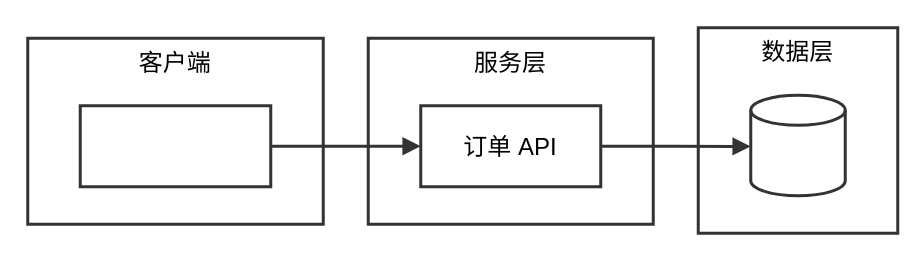
Image size: 924x260. Some labels were removed from this diagram. The centre of each missing label's shape, as x and y in pixels:
"Web 应用" goes at (x=175, y=146).
"订单库" goes at (x=797, y=144).
